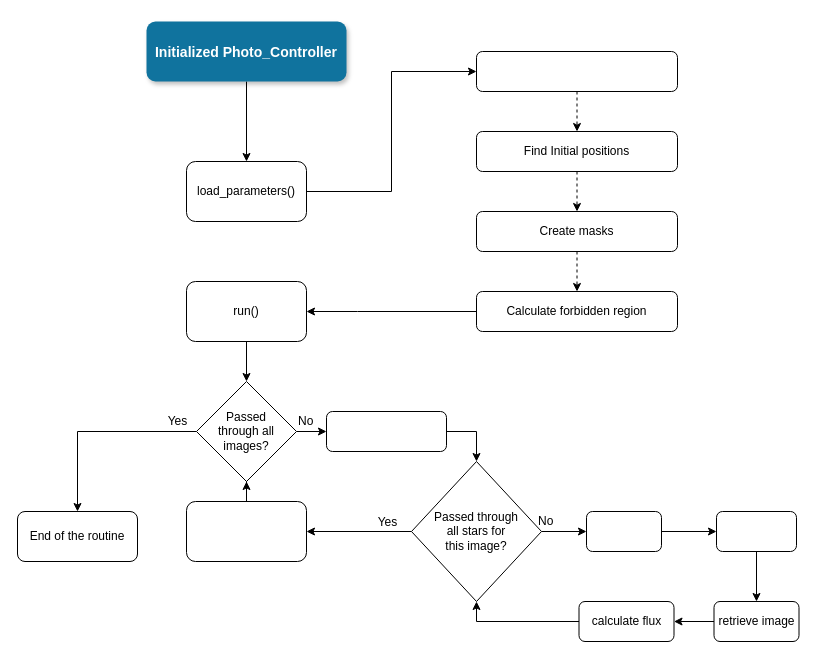
Some shapes in this 817 by 659 pixel diagram are drawn without their labels. The centre of each missing label's shape, as x and y in pixels:
"Load data from fits" belongs at point (577, 71).
"Star" belongs at point (624, 531).
"Update all positions" belongs at point (386, 431).
"Update mask" belongs at point (756, 531).
"Validate mask position for each star" belongs at point (246, 531).
